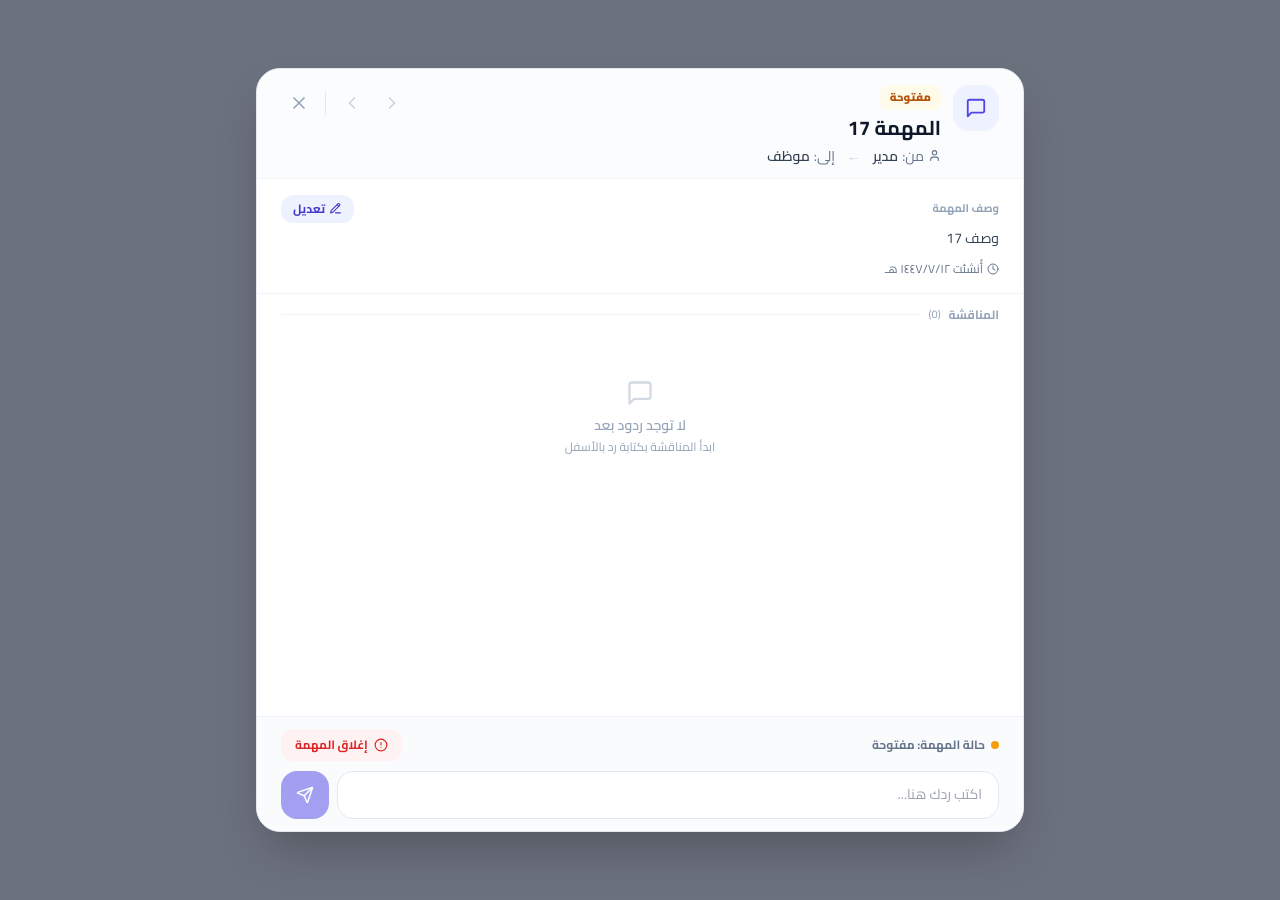
Scenario: TaskDetailsModal — editing an open task › Escape with unsaved edits asks first and keeps the window; cancel returns to the task
This screenshot has width=1280, height=900.
Expected: the text box labelled "اكتب ردك" is enabled, [337, 771, 999, 819]
Click the button "تعديل" at [318, 209], box [281, 195, 354, 223]
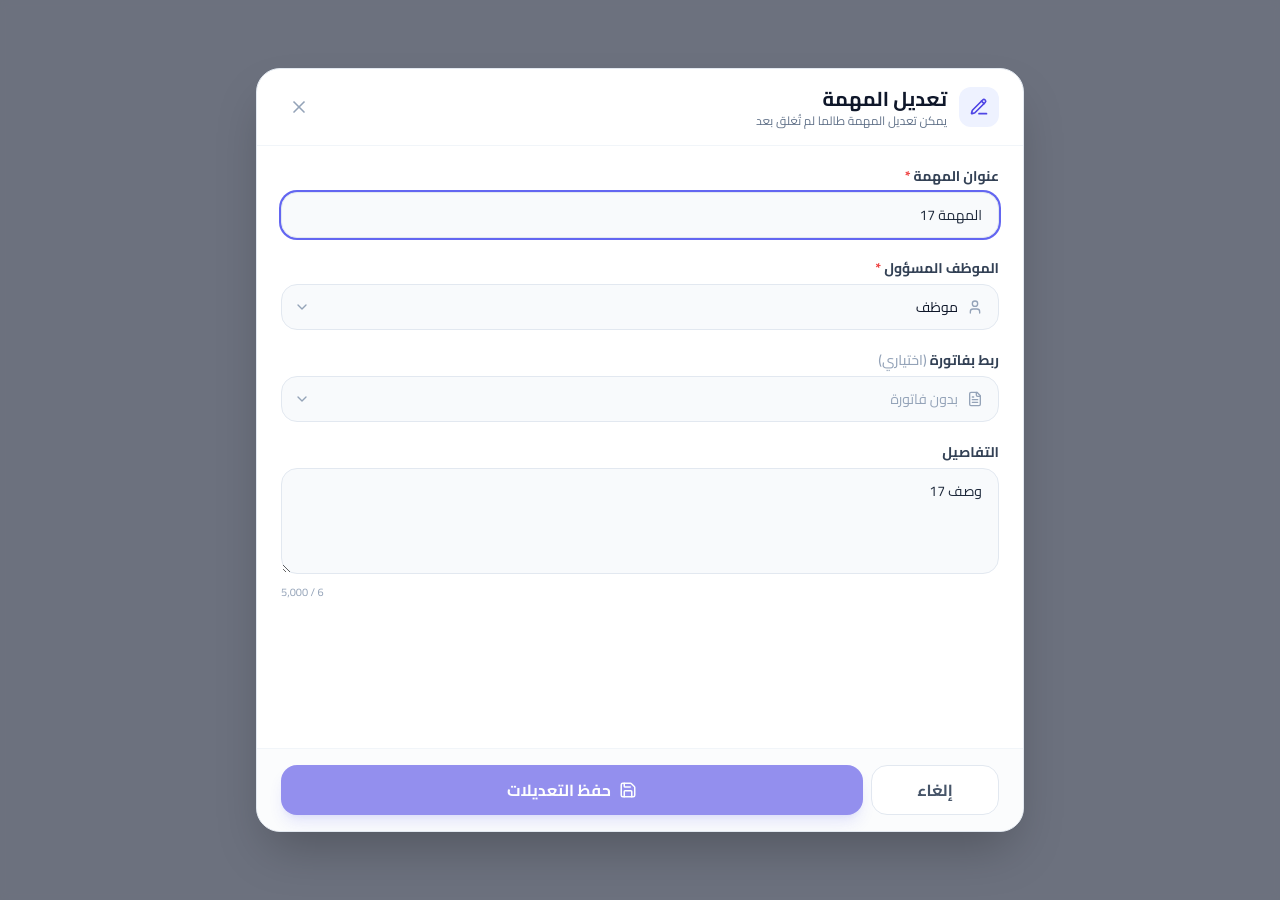
Replace the text in the field labelled "عنوان المهمة *" with "تعديل غير محفوظ" at [640, 215], box [281, 192, 999, 238]
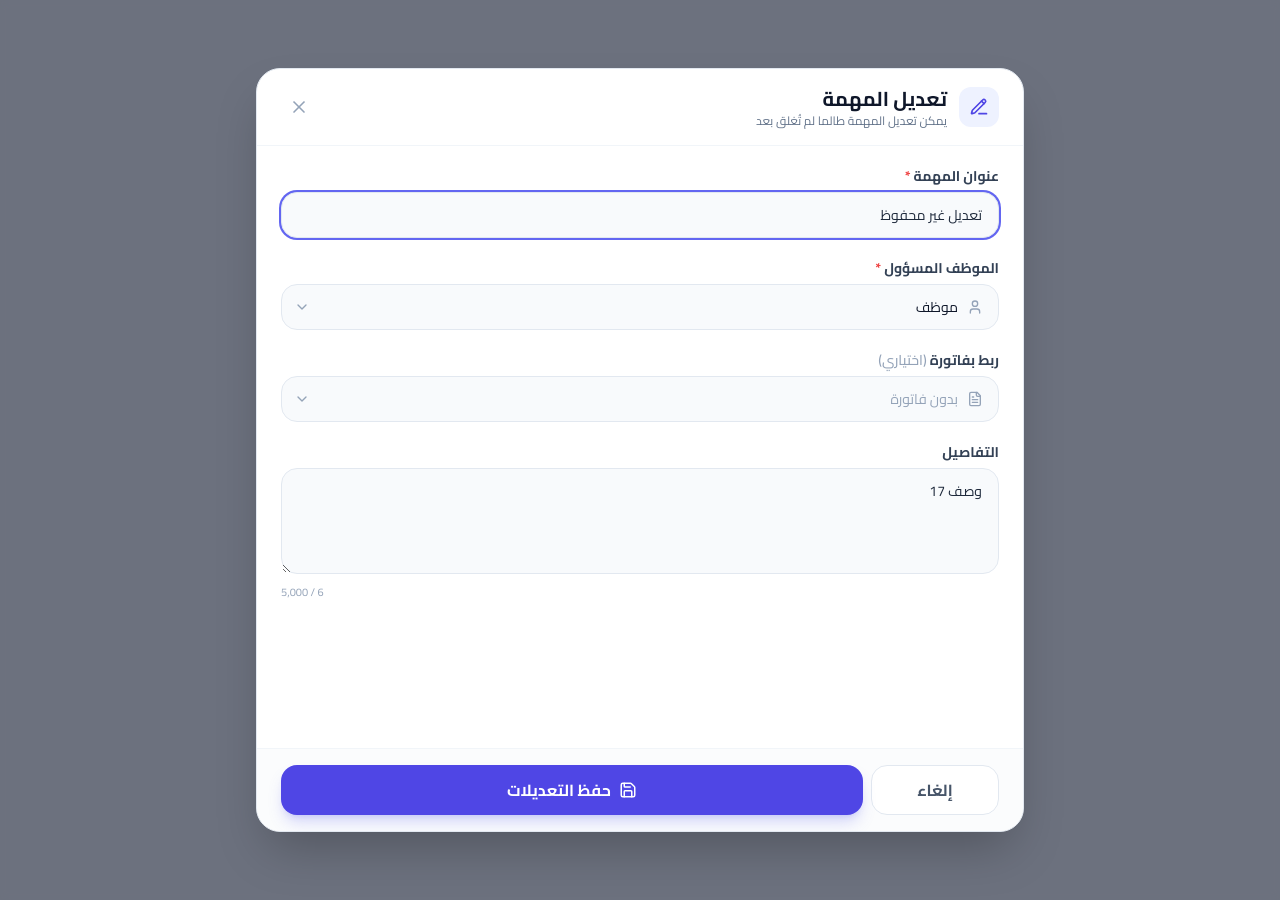
Press Escape in the field labelled "عنوان المهمة *", box [281, 192, 999, 238]
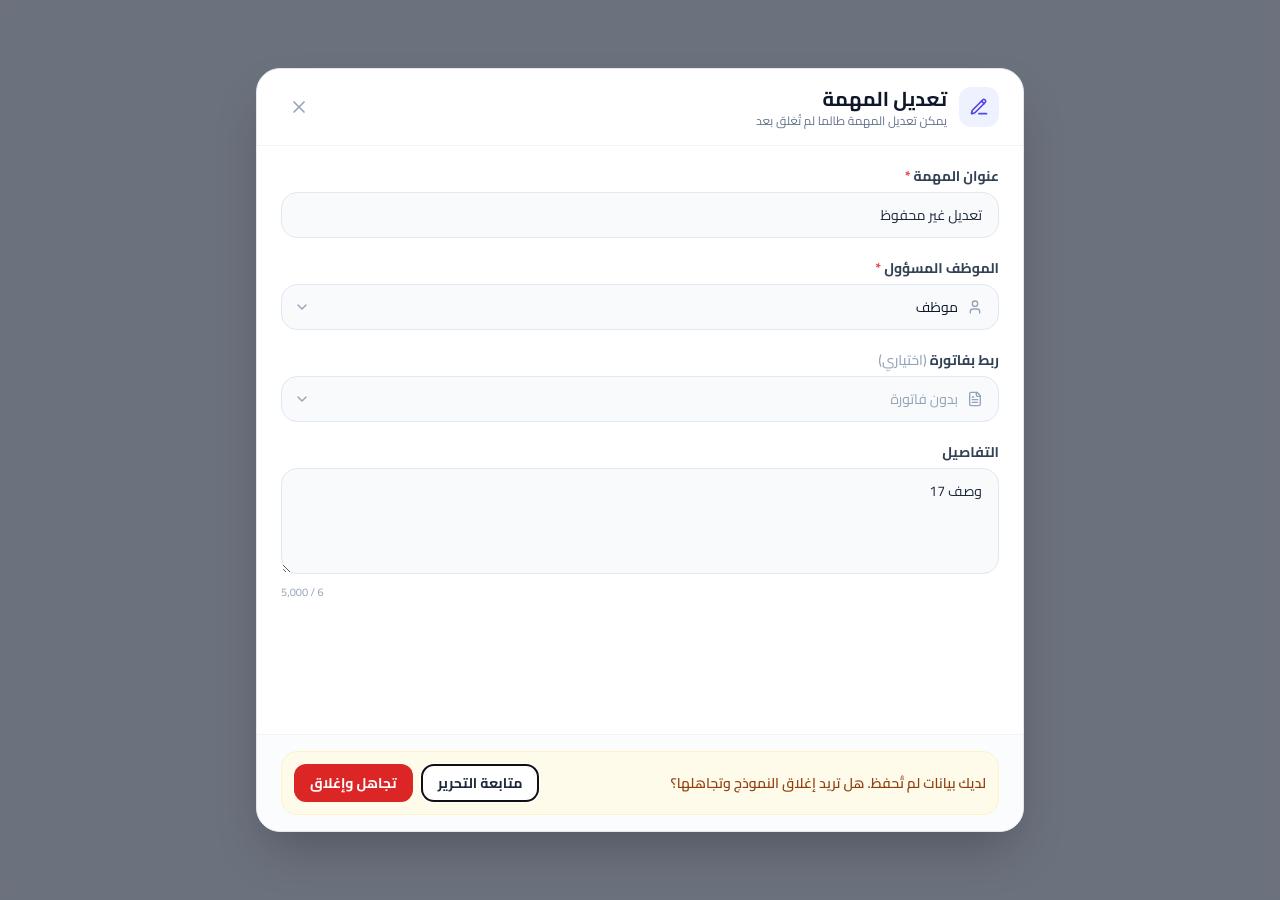
Click the button "تجاهل وإغلاق" at [353, 783], box [294, 764, 413, 802]
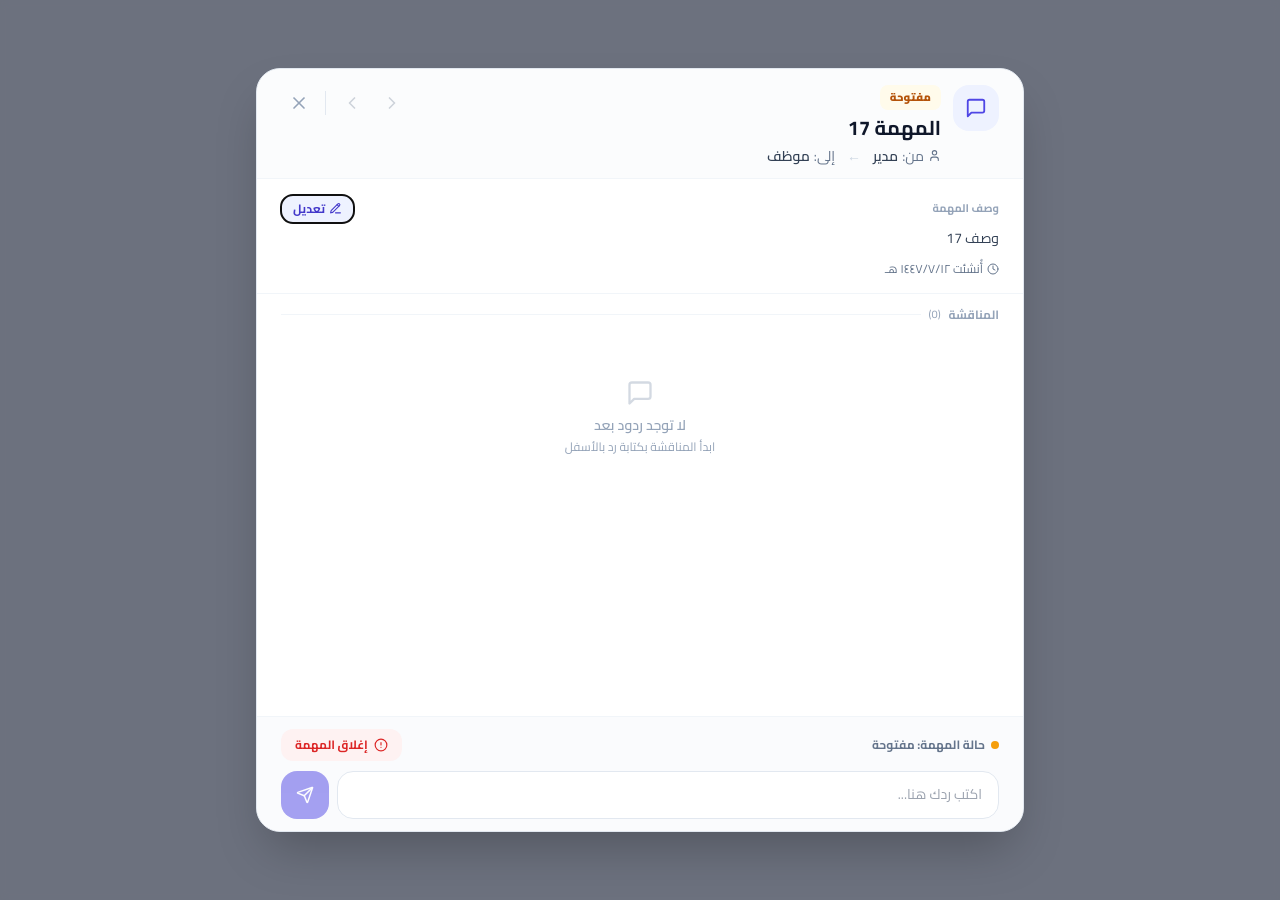
Expected: the text box labelled "اكتب ردك" is shown, [337, 771, 999, 819]
Expected: the heading "المهمة 17" is shown, [848, 109, 941, 146]
